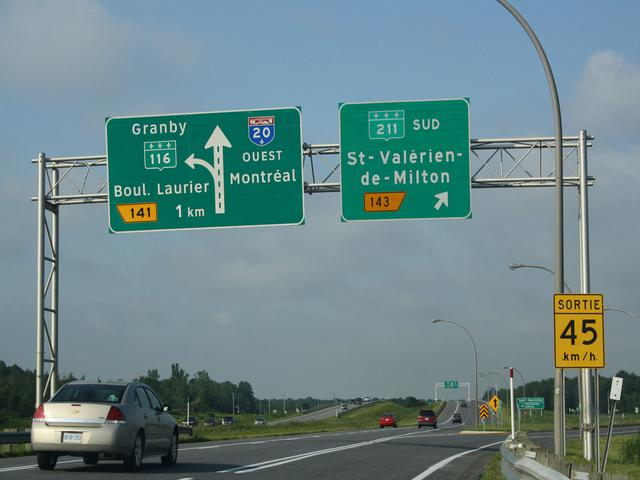autre: (106, 117, 305, 230), (338, 101, 475, 219)
